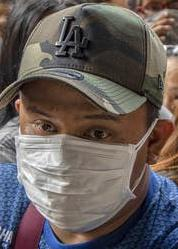OK: (18, 97, 149, 233)
